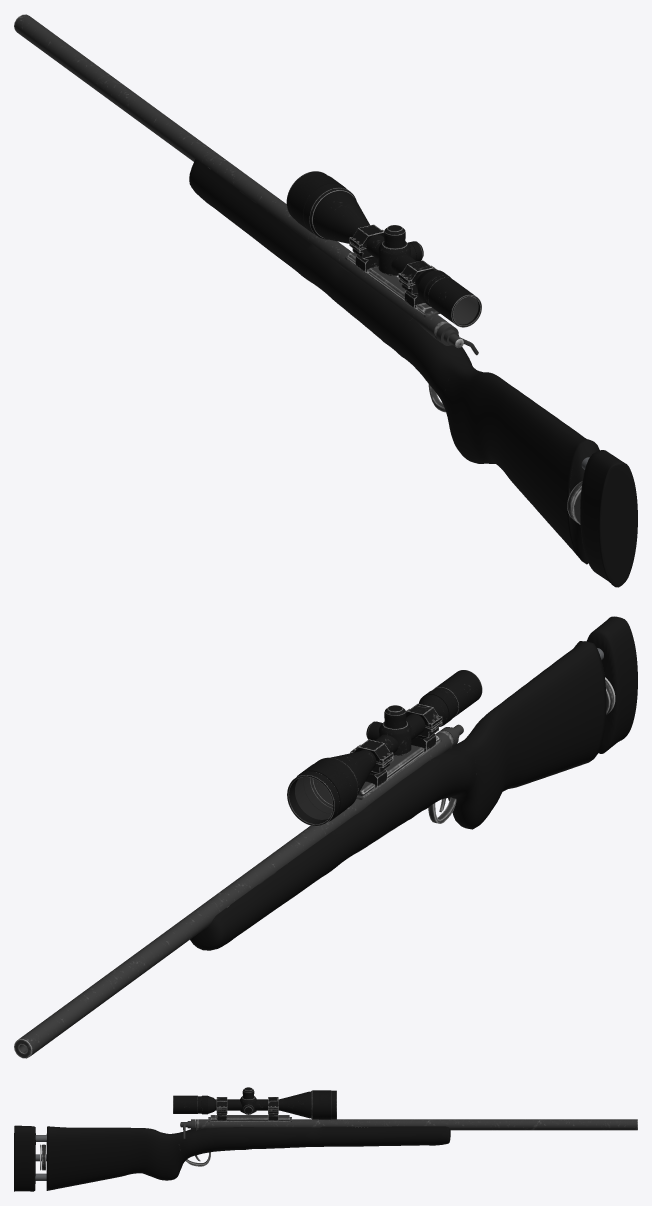
3 renders of one model, top to bottom at view 1: azimuth 30°, elevation 25°; view 2: azimuth 150°, elevation 25°; view 3: azimuth 270°, elevation 25°, orthographic. The views are drawn at different scales.
Visible parts, largest first — view 1: m24_body, m24_scope; view 2: m24_body, m24_scope, m24_scope_glass; view 3: m24_body, m24_scope.
Part boxes in pixels (x1,y1,x2,y2): m24_body: (14, 14, 637, 587); m24_scope: (286, 171, 481, 327); m24_body: (14, 616, 637, 1058); m24_scope: (287, 670, 482, 826); m24_scope_glass: (295, 777, 332, 819); m24_body: (14, 1115, 637, 1191); m24_scope: (173, 1087, 336, 1120).
Size of the model in its own units: 0.0585 by 0.2208 by 1.22.
3 materials, 2 textured.
